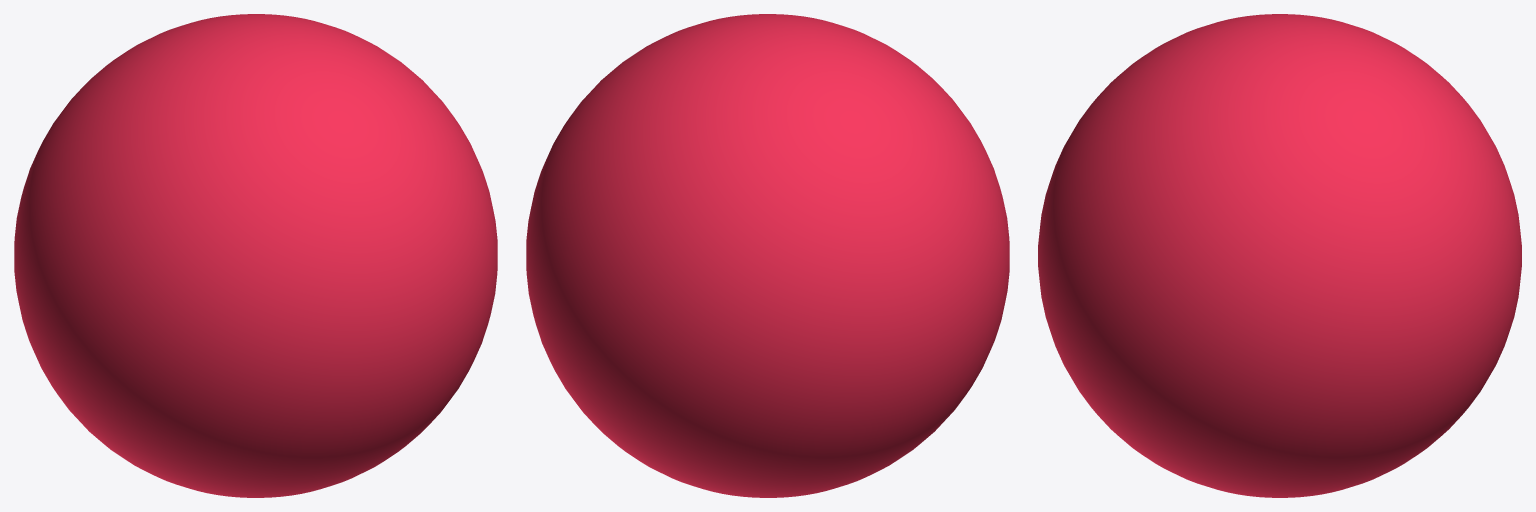
The model's file is item_collectible.obj.
3 renders of one model, left to right at view 1: azimuth 30°, elevation 25°; view 2: azimuth 150°, elevation 25°; view 3: azimuth 270°, elevation 25°, orthographic.
Visible parts, largest first — view 1: item_collectible_mesh; view 2: item_collectible_mesh; view 3: item_collectible_mesh.
Part boxes in pixels (<box>): item_collectible_mesh: <box>14,14,497,497</box>; item_collectible_mesh: <box>526,14,1009,497</box>; item_collectible_mesh: <box>1038,14,1521,497</box>.
Size of the model in its own units: 63.93 by 64 by 63.93.
Materials: 1 (1 with a texture image).
